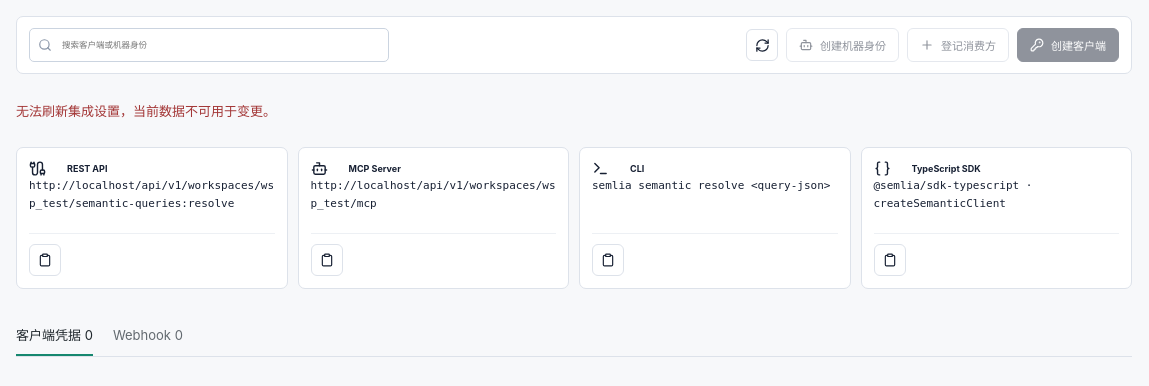
persisted integration settings › keeps persisted credentials visible but disables mutations after refresh fails
This screenshot has width=1149, height=386.
Expected: the message "无法刷新集成设置，当前数据不可用于变更。" is shown, [16, 103, 276, 119]
Expected: the button "创建客户端" is disabled, [1017, 28, 1119, 62]
Click the button named "刷新集成设置": (762, 45) [746, 29, 778, 61]
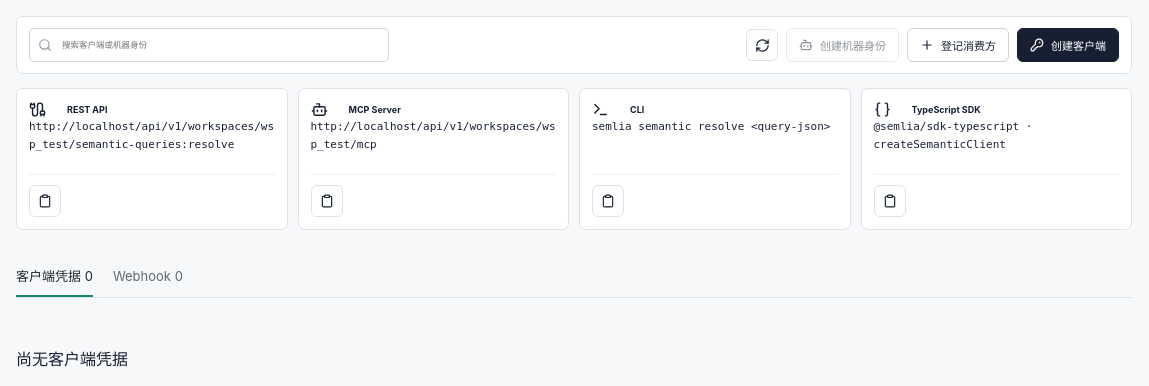
Expected: the text "尚无客户端凭据" is shown, [16, 349, 128, 369]
Expected: the button "创建客户端" is enabled, [1017, 28, 1119, 62]
